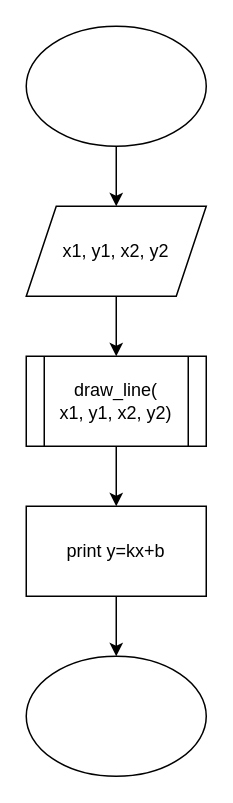
This 233x803 diagram has some shape labels left out. The shapes that lost their labels are listed below. From the top down, each one's box as (x1, y1, x2, y2) in pixels, then its label:
(25, 25, 206, 146): Начало
(25, 655, 206, 776): Конец
